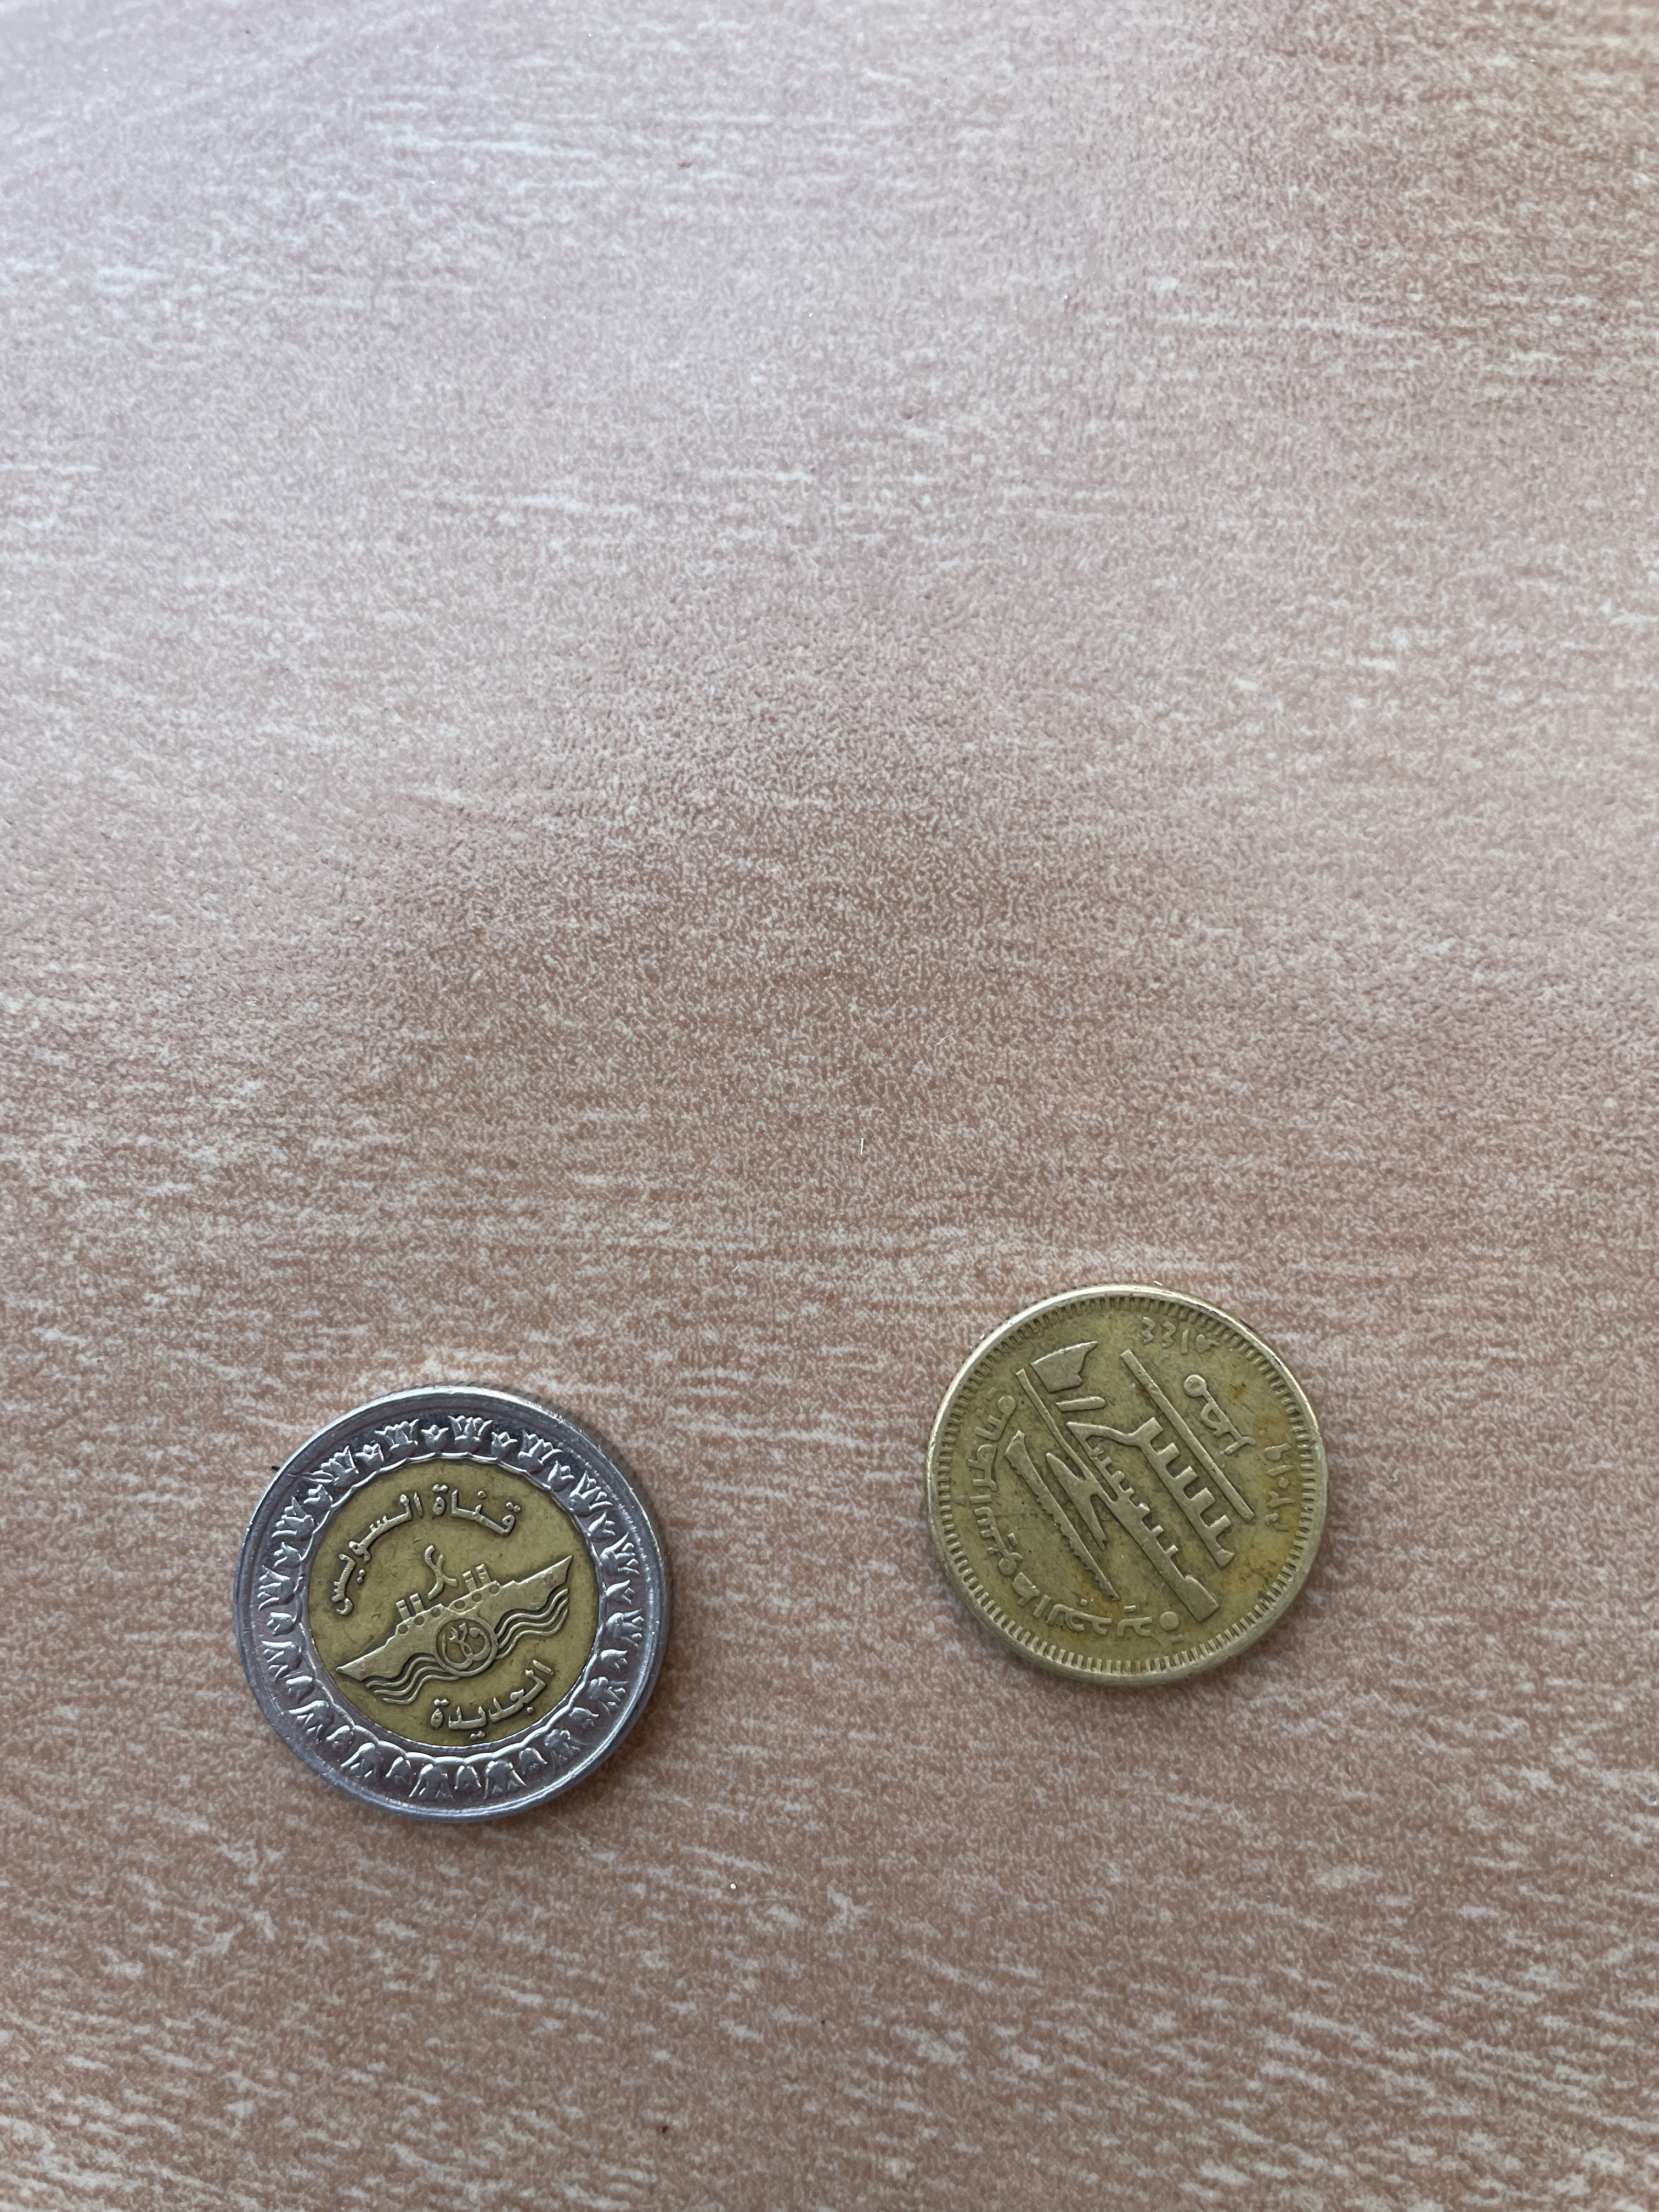half: (904, 1275, 1344, 1702)
one: (220, 1381, 687, 1846)
